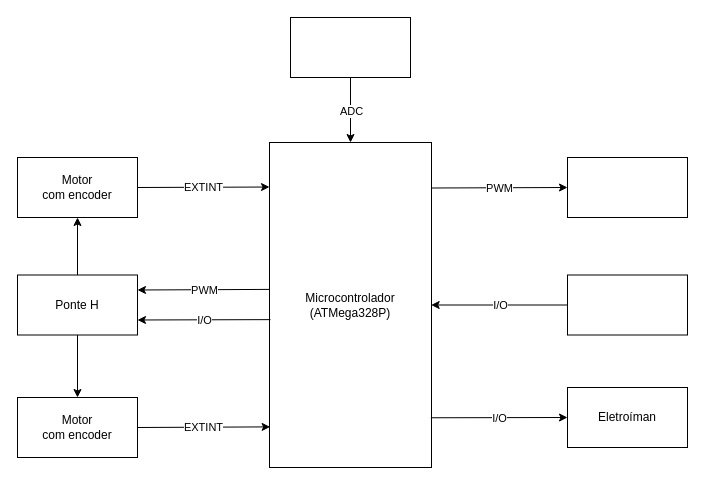
The diagram is 705 pixels wide and 485 high, and some of its shapes have lost their labels. Here are the shapes that lost their labels. From the top down, the centre of each, then its label:
At (x=350, y=47): "5 sensores de linha analógicos".
At (x=627, y=187): "Led (Builtin)".
At (x=627, y=304): "Fim de curso".
